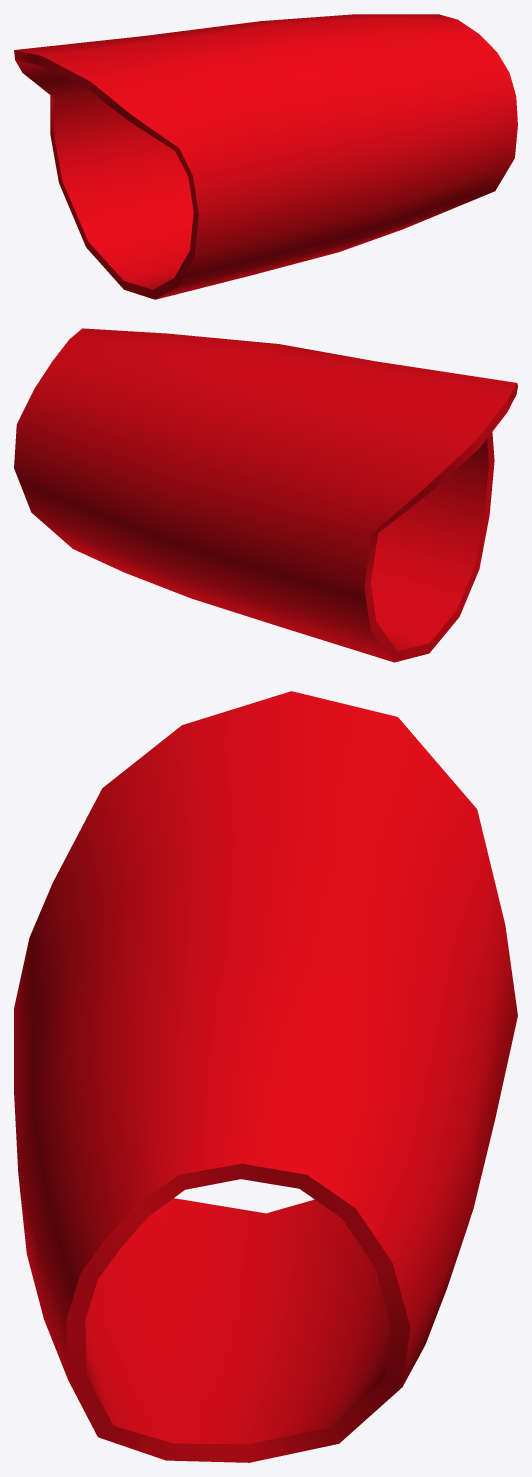
Rendered from Heatarmplate.fbx.
3 views of the same model, one above another, from view 1: azimuth 30°, elevation 25°; view 2: azimuth 150°, elevation 25°; view 3: azimuth 270°, elevation 25° (orthographic). The views are drawn at different scales.
Parts seen in each view (by area): view 1: ArmPlate.L; view 2: ArmPlate.L; view 3: ArmPlate.L.
Boxes of the visible parts, <box> form: ArmPlate.L: <box>14,14,517,299</box>; ArmPlate.L: <box>14,328,517,662</box>; ArmPlate.L: <box>14,691,517,1462</box>.
Bounding box in the file's own units: 0.2381 × 0.1338 × 0.1299.
